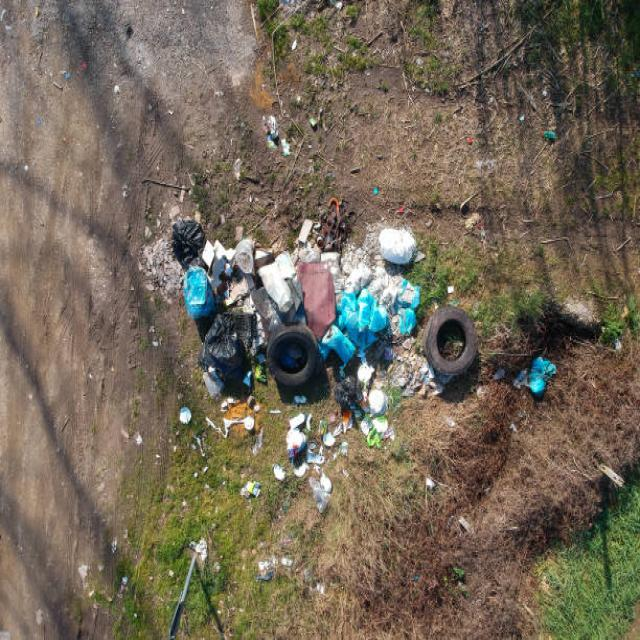plastic: (331, 265, 413, 368), (178, 264, 299, 324)
trash: (168, 213, 212, 261)
